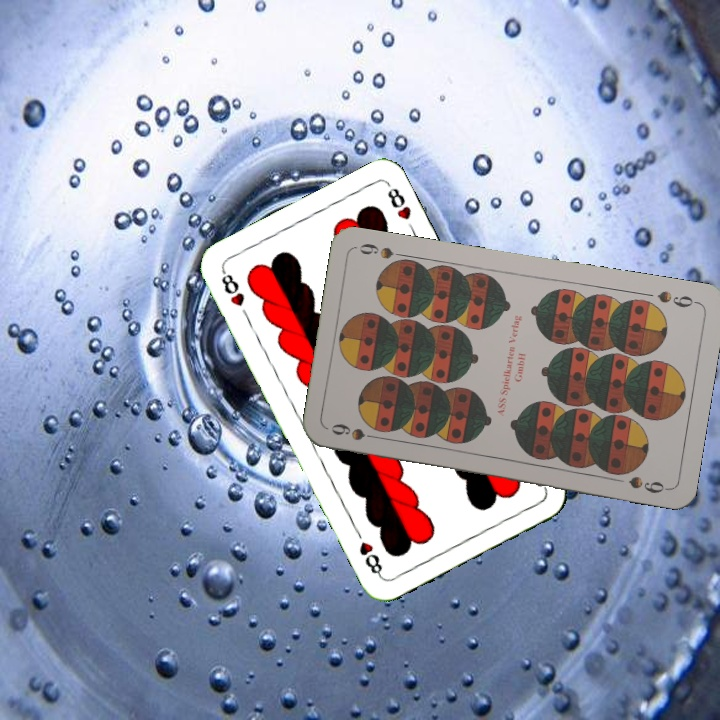H8: (217, 266, 247, 310)
S9: (328, 419, 385, 443), (653, 286, 701, 310)
